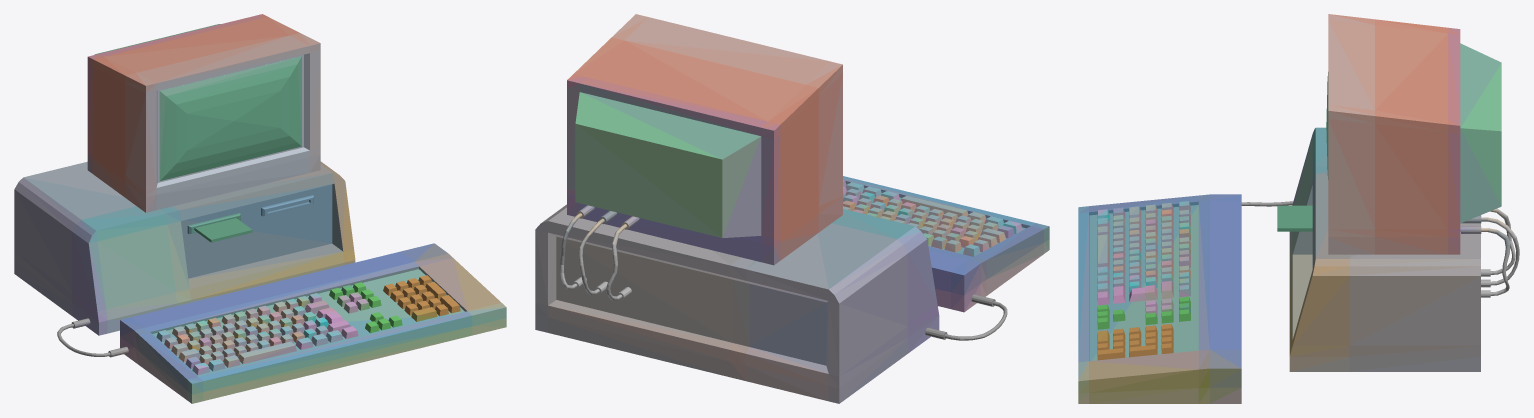
3 renders of one model, left to right at view 1: azimuth 30°, elevation 25°; view 2: azimuth 150°, elevation 25°; view 3: azimuth 270°, elevation 25°, orthographic. The views are drawn at different scales.
Parts seen in each view (by area): view 1: world; view 2: world; view 3: world.
Boxes of the visible parts, <box> form: world: <box>14,14,506,403</box>; world: <box>535,14,1049,403</box>; world: <box>1078,14,1519,403</box>.
Bounding box in the file's own units: 1 × 0.5985 × 0.9526.
